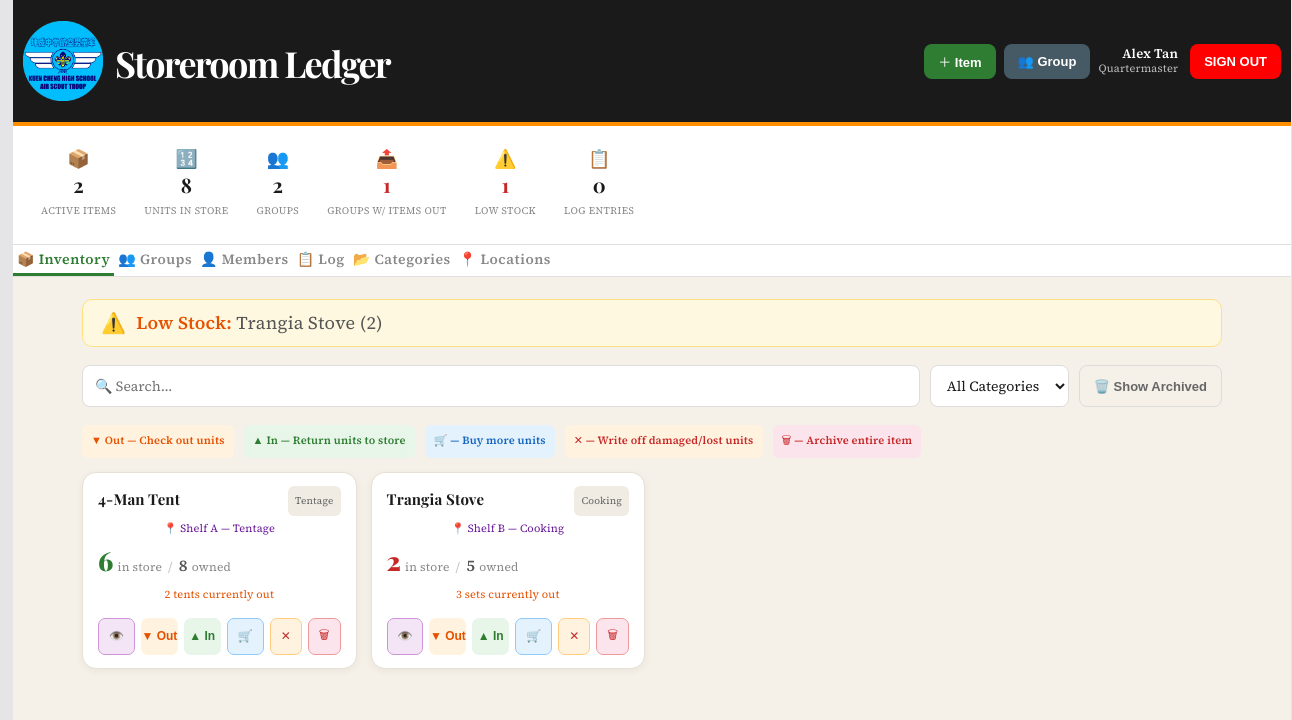
Test: tabs › has a Categories tab
The image size is (1292, 720).
Expected: the heading "4-Man Tent" is shown, [98,486,180,512]
Click the button "📂 Categories".
click(402, 261)  # box [349,245,455,276]
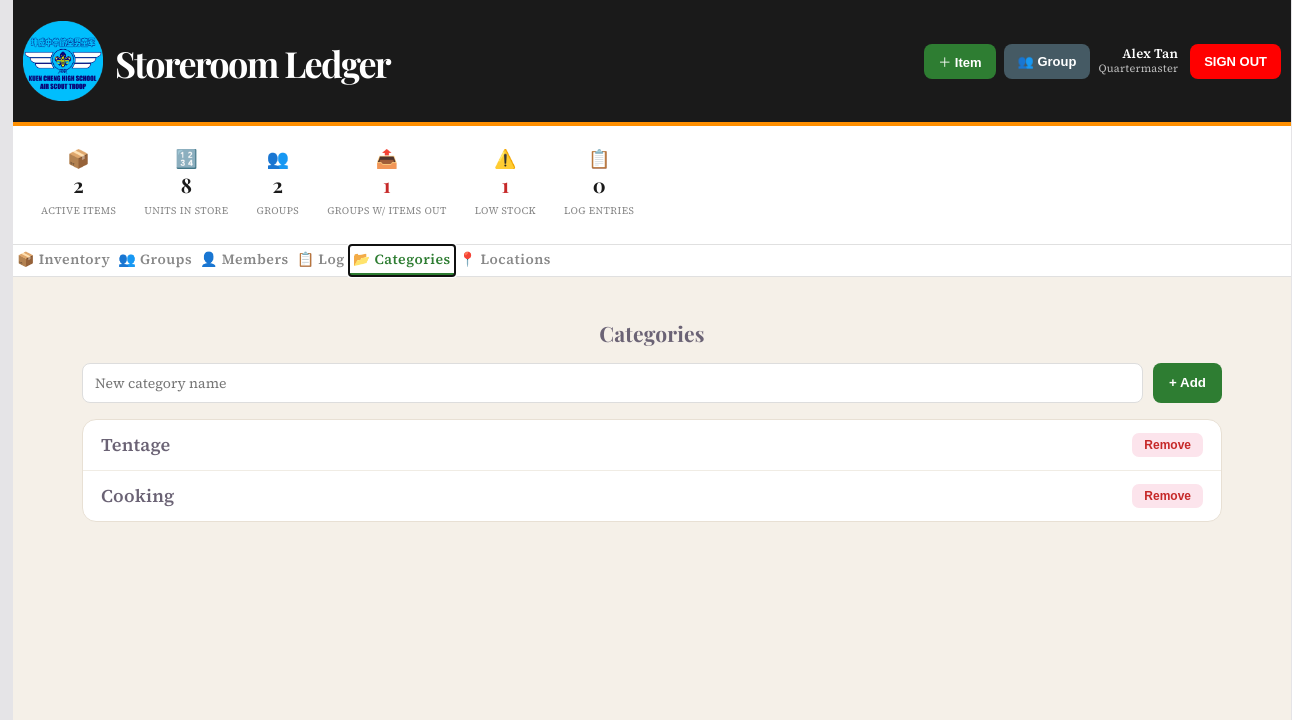
Expected: the field with placeholder "New category name" is shown, [82,362,1143,402]
